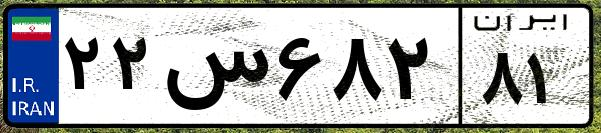1: (525, 38, 570, 115)
2: (385, 28, 445, 110), (57, 26, 110, 100), (110, 28, 158, 98)
6: (270, 28, 330, 110)
8: (330, 28, 385, 110), (475, 38, 525, 113)
س: (158, 20, 270, 120)
